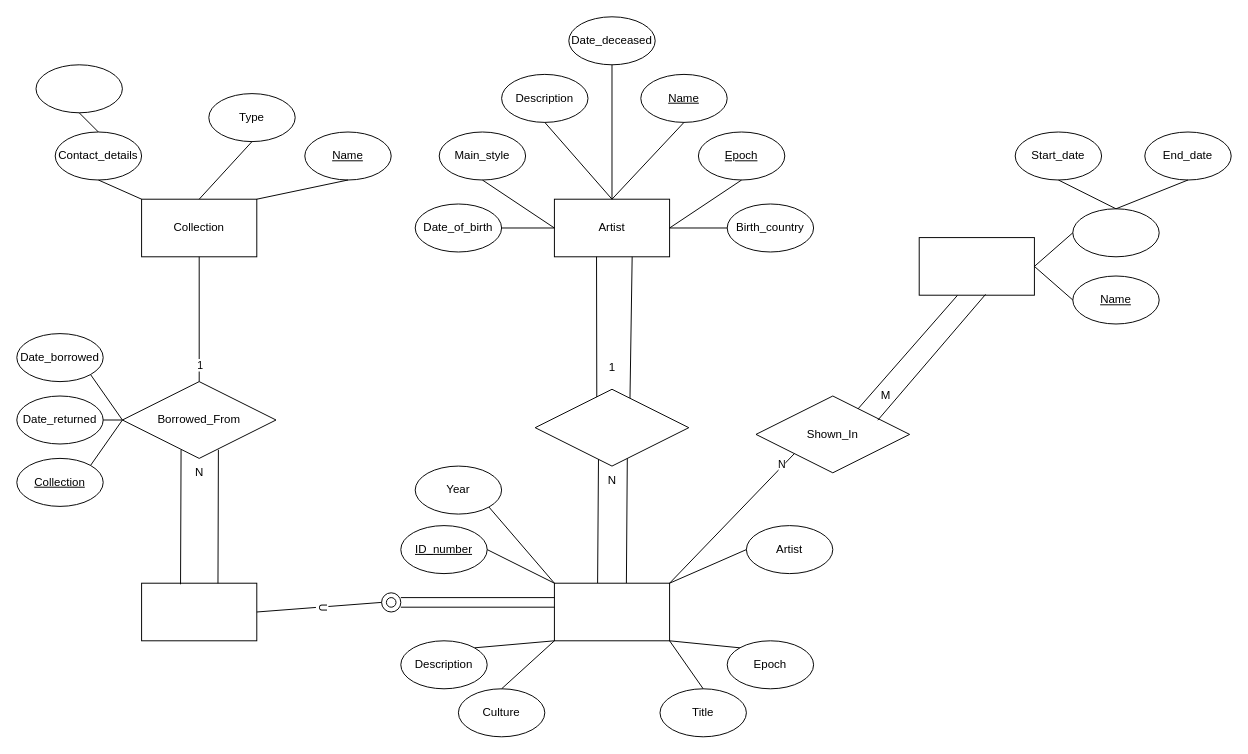
The diagram is 1248 pixels wide and 754 high, and some of its shapes have lost their labels. Each missing label, with the centre of its shape:
Art_Object: point (611, 611)
Borrowed: point (199, 611)
Contact_person: point (78, 88)
Date: point (1115, 232)
Exhibition: point (976, 266)
Painted_By: point (611, 427)
